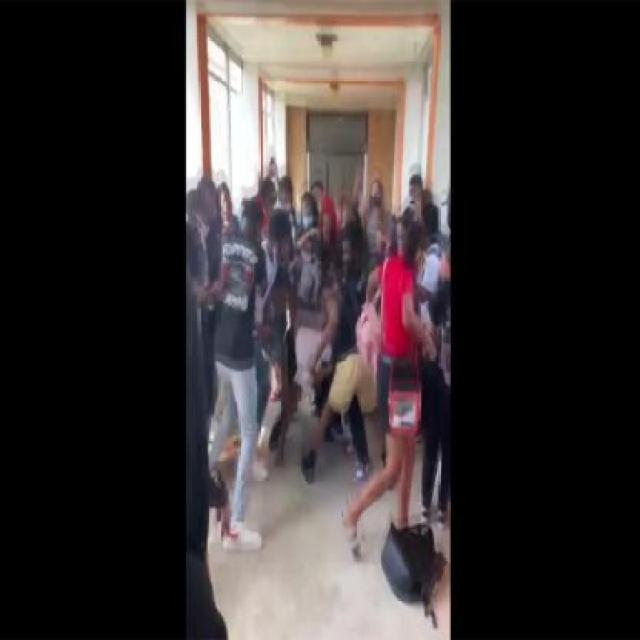fight: (242, 220, 384, 563), (366, 208, 460, 558)
